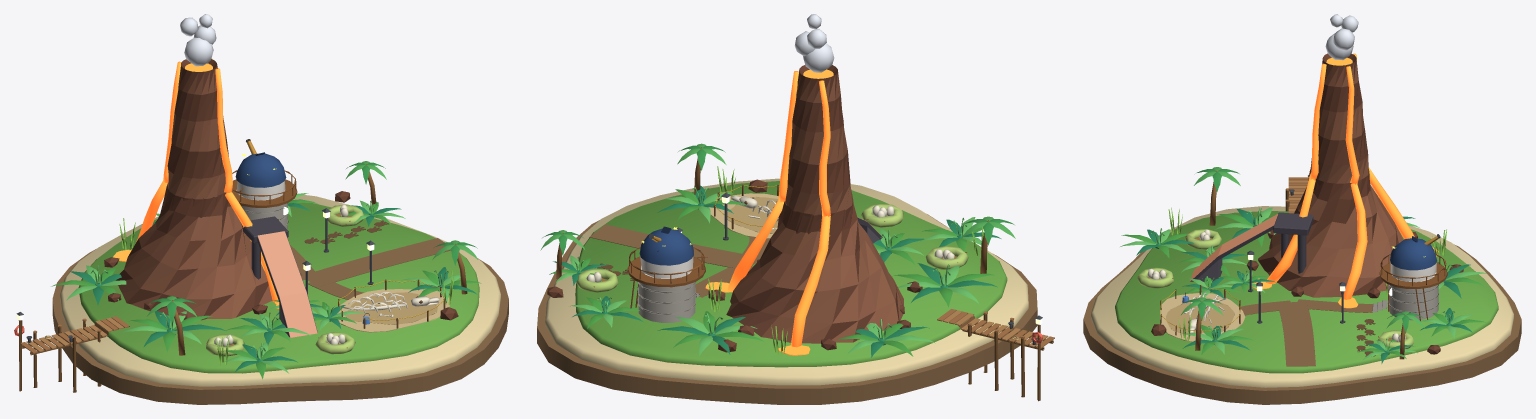
The model's file is vale-dos-dinos-media.glb.
3 views of the same model, side by side, from view 1: azimuth 30°, elevation 25°; view 2: azimuth 150°, elevation 25°; view 3: azimuth 270°, elevation 25° (orthographic). The views are drawn at different scales.
Parts seen in each view (by area): view 1: ilha-media; view 2: ilha-media; view 3: ilha-media.
Part boxes in pixels (left/top/right/bottom): ilha-media: left=14, top=14, right=508, bottom=404; ilha-media: left=537, top=14, right=1054, bottom=404; ilha-media: left=1083, top=14, right=1521, bottom=404.
Bounding box in the file's own units: 32.6 × 22.25 × 29.61.
